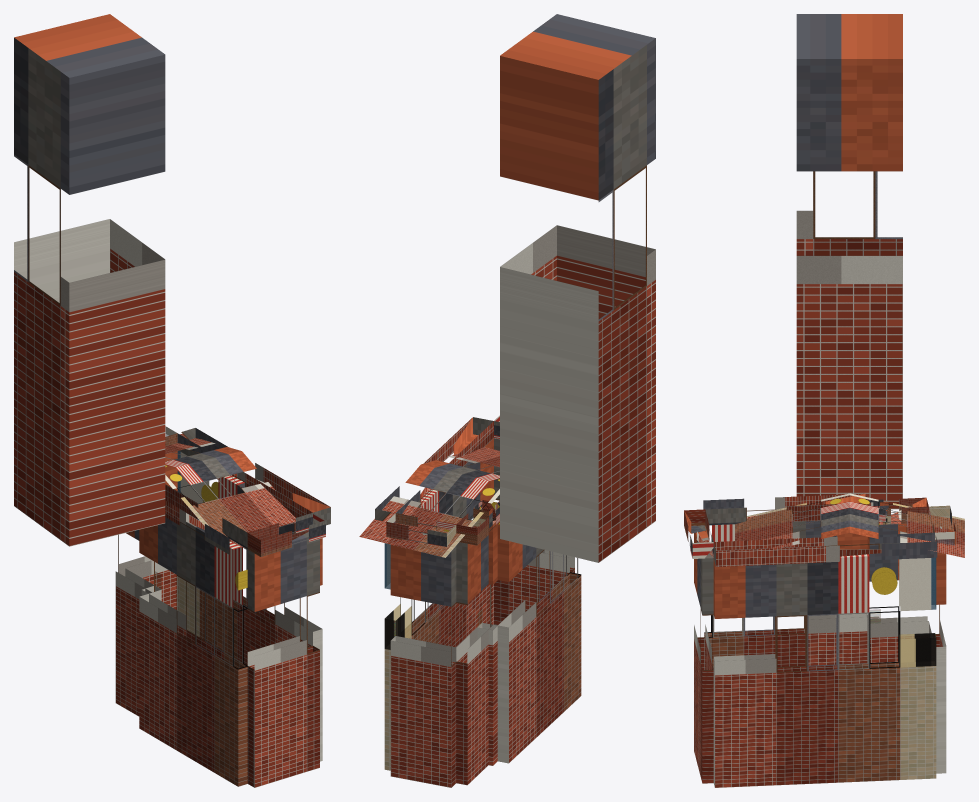
3 renders of one model, left to right at view 1: azimuth 30°, elevation 25°; view 2: azimuth 150°, elevation 25°; view 3: azimuth 270°, elevation 25°, orthographic. The views are drawn at different scales.
Visible parts, largest first — view 1: 1106966923__chimney_0_xb, 1106966923__wall_3_xb, 1106966923__wall_2_xb, 1106966923__wall_1_xb, 1106966923_roof_-1_xb, 1106966923__wall_5_xb, 1106966923__cornice_1, 1106966923__cornice_3, 1106966923__cornice_2, 1106966923__wall_0_xb, 1106966923_roof_1_xb; view 2: 1106966923__chimney_0_xb, 1106966923__wall_3_xb, 1106966923__wall_0_xb, 1106966923__wall_5_xb, 1106966923__wall_1_xb, 1106966923_roof_1_xb, 1106966923__wall_2_xb, 1106966923__wall_4_xb, 1106966923__cornice_1, 1106966923__cornice_0, 1106966923_roof_-1_xb, 1106966923__wall_1_xf (+1 smaller); view 3: 1106966923__chimney_0_xb, 1106966923__wall_1_xb, 1106966923__wall_3_xb, 1106966923__cornice_1, 1106966923__wall_2_xb, 1106966923_roof_-1_xb, 1106966923_roof_1_xb, 1106966923__wall_5_xb, 1106966923__cornice_3, 1106966923__wall_0_xb, 1106966923__wall_1_xf, 1106966923__cornice_2 (+2 smaller).
Part boxes in pixels (left/top/right/bottom): 1106966923__chimney_0_xb: left=14, top=14, right=165, bottom=546; 1106966923__wall_3_xb: left=139, top=517, right=247, bottom=786; 1106966923__wall_2_xb: left=247, top=532, right=319, bottom=787; 1106966923__wall_1_xb: left=177, top=451, right=322, bottom=761; 1106966923_roof_-1_xb: left=165, top=451, right=295, bottom=536; 1106966923__wall_5_xb: left=115, top=530, right=154, bottom=716; 1106966923__cornice_1: left=177, top=428, right=330, bottom=525; 1106966923__cornice_3: left=165, top=484, right=247, bottom=554; 1106966923__cornice_2: left=247, top=513, right=325, bottom=556; 1106966923__wall_0_xb: left=118, top=451, right=177, bottom=610; 1106966923_roof_1_xb: left=165, top=433, right=241, bottom=467; 1106966923__chimney_0_xb: left=500, top=14, right=655, bottom=562; 1106966923__wall_3_xb: left=497, top=521, right=581, bottom=763; 1106966923__wall_0_xb: left=390, top=544, right=456, bottom=787; 1106966923__wall_5_xb: left=456, top=519, right=493, bottom=785; 1106966923__wall_1_xb: left=384, top=438, right=493, bottom=770; 1106966923_roof_1_xb: left=359, top=464, right=499, bottom=557; 1106966923__wall_2_xb: left=494, top=438, right=574, bottom=625; 1106966923__wall_4_xb: left=477, top=520, right=497, bottom=765; 1106966923__cornice_1: left=375, top=417, right=493, bottom=520; 1106966923__cornice_0: left=386, top=513, right=456, bottom=546; 1106966923_roof_-1_xb: left=421, top=447, right=499, bottom=481; 1106966923__wall_1_xf: left=385, top=543, right=411, bottom=649; 1106966923__chimney_0_xb: left=796, top=14, right=902, bottom=509; 1106966923__wall_1_xb: left=713, top=554, right=936, bottom=787; 1106966923__wall_3_xb: left=704, top=520, right=867, bottom=668; 1106966923__cornice_1: left=713, top=532, right=937, bottom=566; 1106966923__wall_2_xb: left=694, top=526, right=713, bottom=783; 1106966923_roof_-1_xb: left=735, top=493, right=849, bottom=548; 1106966923_roof_1_xb: left=850, top=493, right=964, bottom=557; 1106966923__wall_5_xb: left=869, top=523, right=928, bottom=662; 1106966923__cornice_3: left=703, top=493, right=867, bottom=525; 1106966923__wall_0_xb: left=929, top=552, right=946, bottom=773; 1106966923__wall_1_xf: left=900, top=558, right=935, bottom=666; 1106966923__cornice_2: left=684, top=509, right=713, bottom=558.
Bounding box in the file's own units: 0.343 × 1.05 × 0.3955.
Materials: 1 (1 with a texture image).
